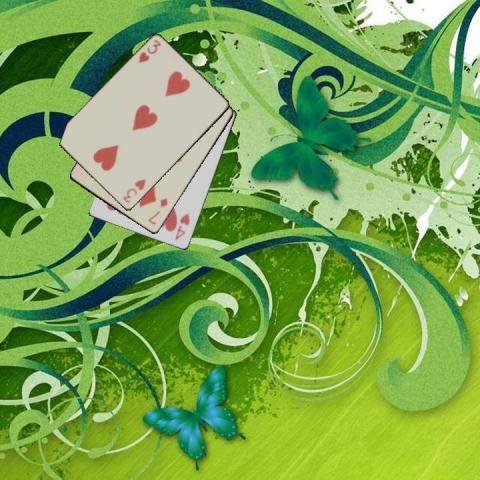3h: (120, 176, 148, 205), (135, 36, 163, 64)
4h: (172, 211, 191, 241)
7d: (146, 195, 170, 226)
